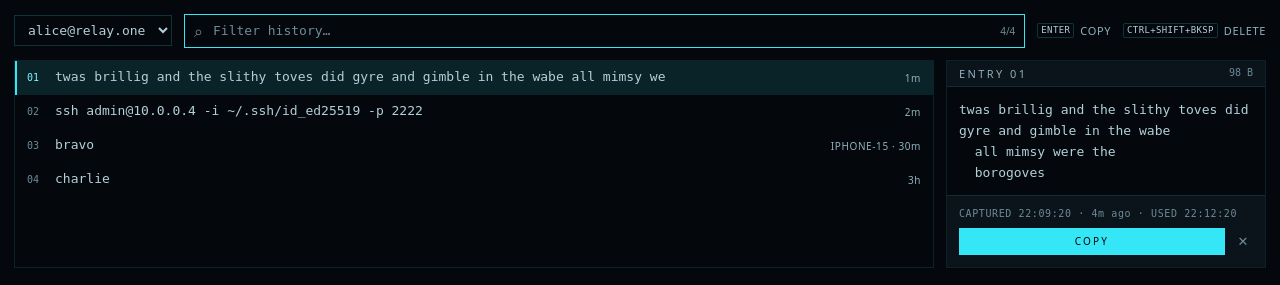
Test: HistorySection — the reader › matches a query against a word past the Preview's cap on an entry's third line
The width and height of the screenshot is (1280, 285).
Type "borogoves" into the field labelled "Filter history". click: (605, 31)
box: 184,14 -> 1025,48
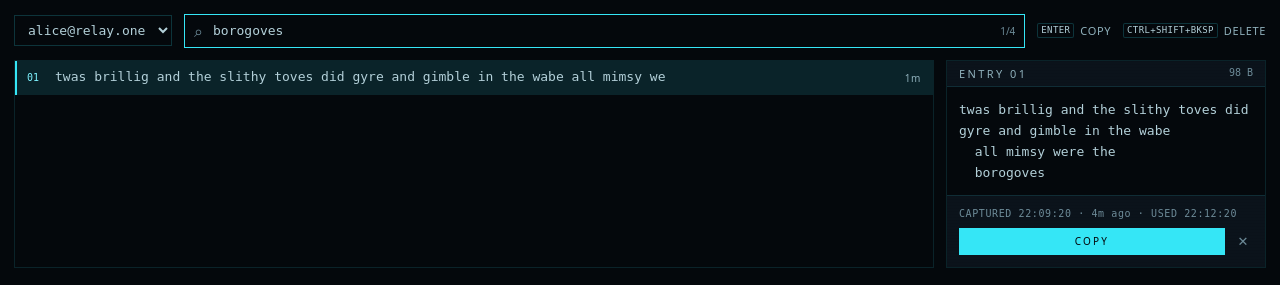
Check: the list item with test id "entry-row" shows "twas brillig and the slithy toves did gyre and gimble in the wabe all mimsy we", box 55,69 -> 666,84
Check: the number of list items with test id "entry-row" is 1, box 15,60 -> 933,94
